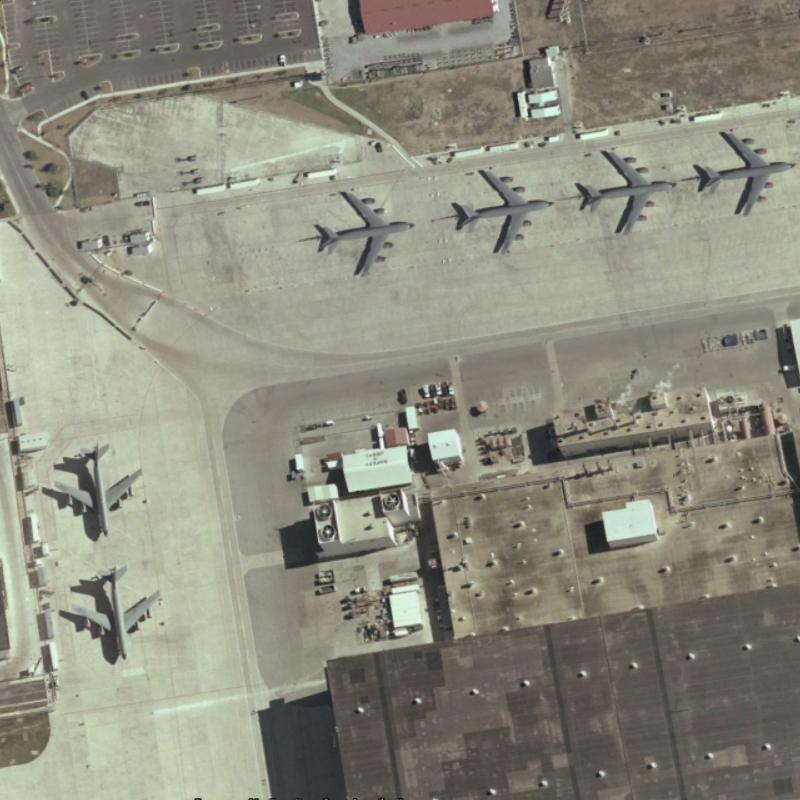A14: (65, 562, 162, 662), (50, 441, 146, 538), (319, 187, 418, 280), (459, 165, 558, 258), (702, 127, 799, 220), (582, 147, 680, 237)
